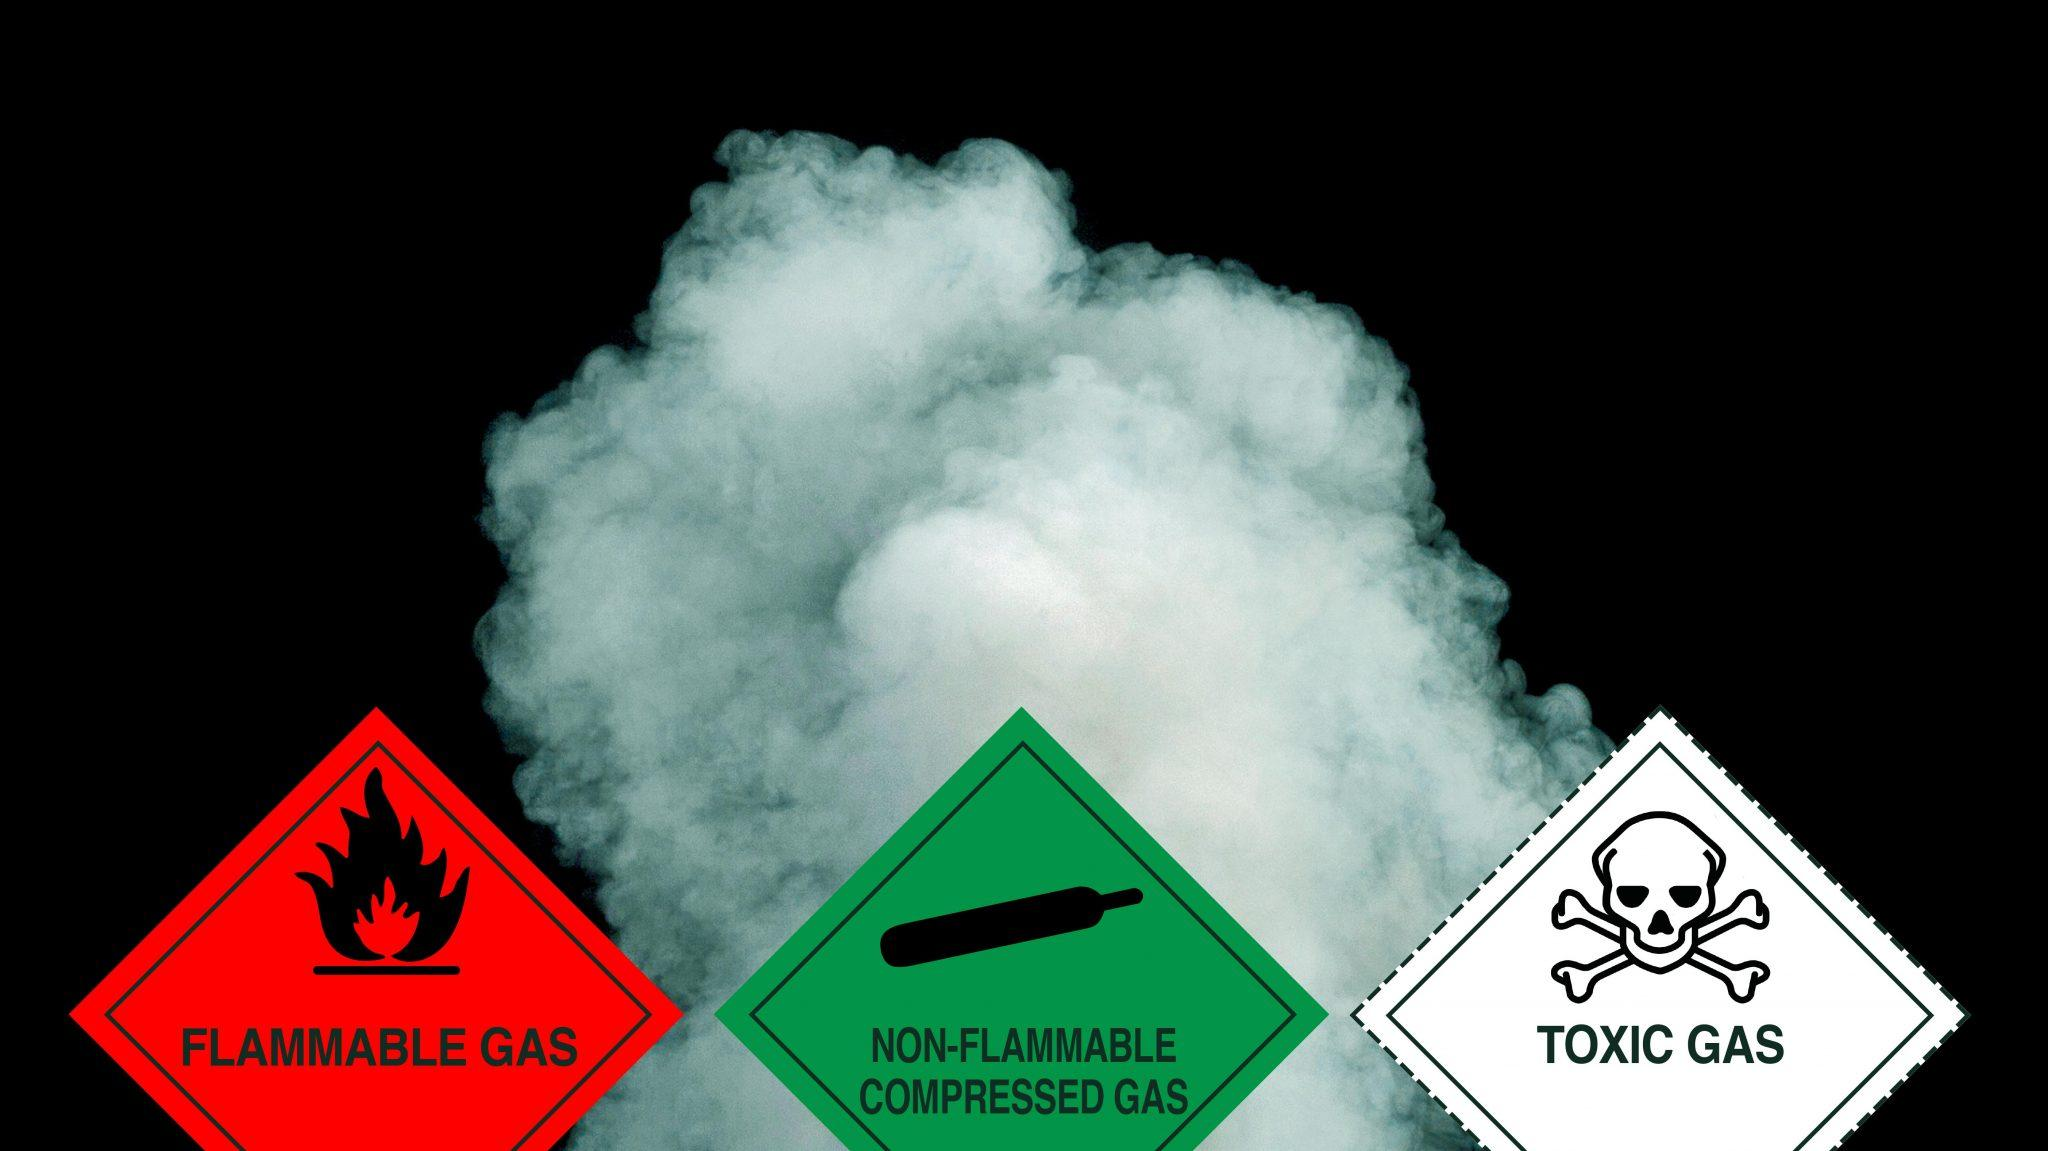flammable: (69, 699, 682, 1151)
non-flammable-gas: (712, 699, 1335, 1151)
poison: (1362, 699, 1973, 1151)
